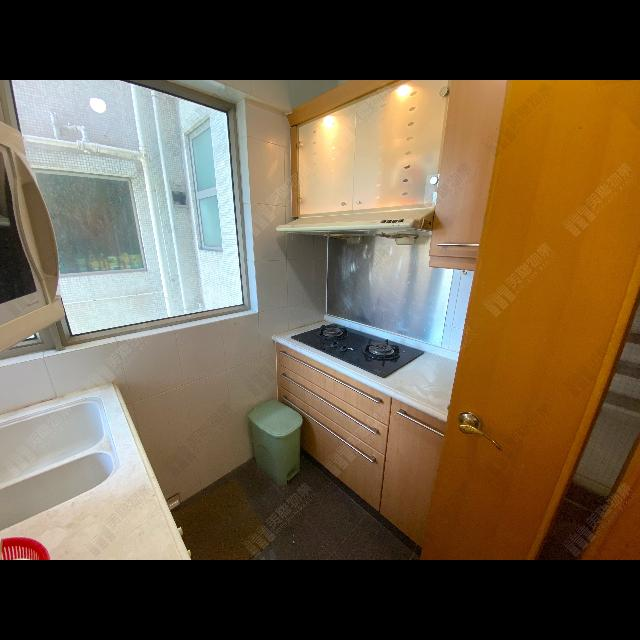Microwave: (0, 120, 63, 354)
